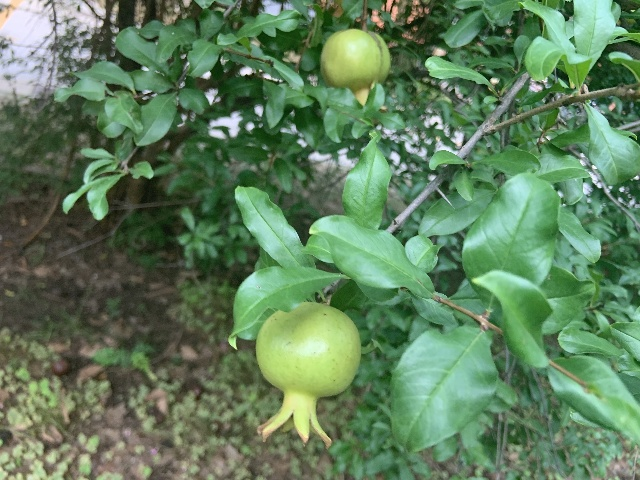mid-growth: (254, 302, 361, 447), (319, 28, 390, 107)
